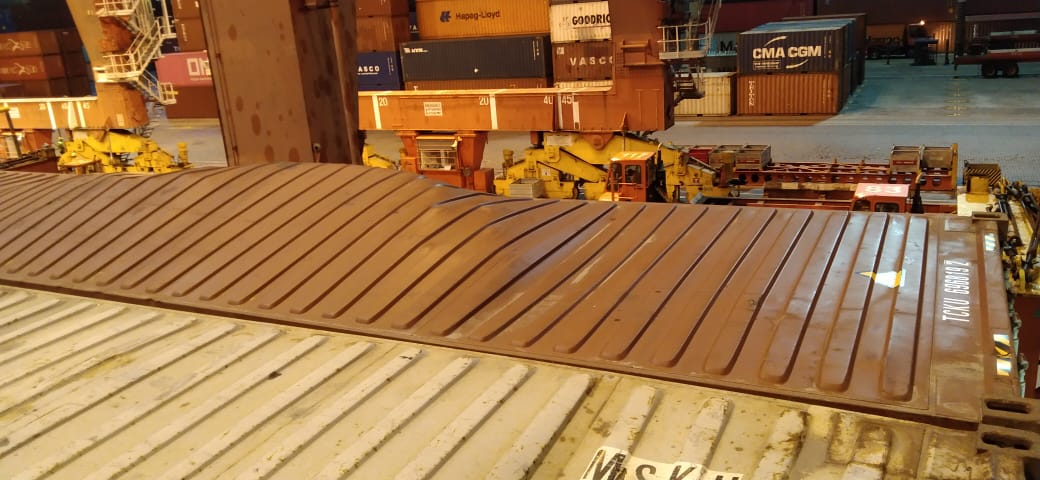bulged: (123, 153, 535, 288)
